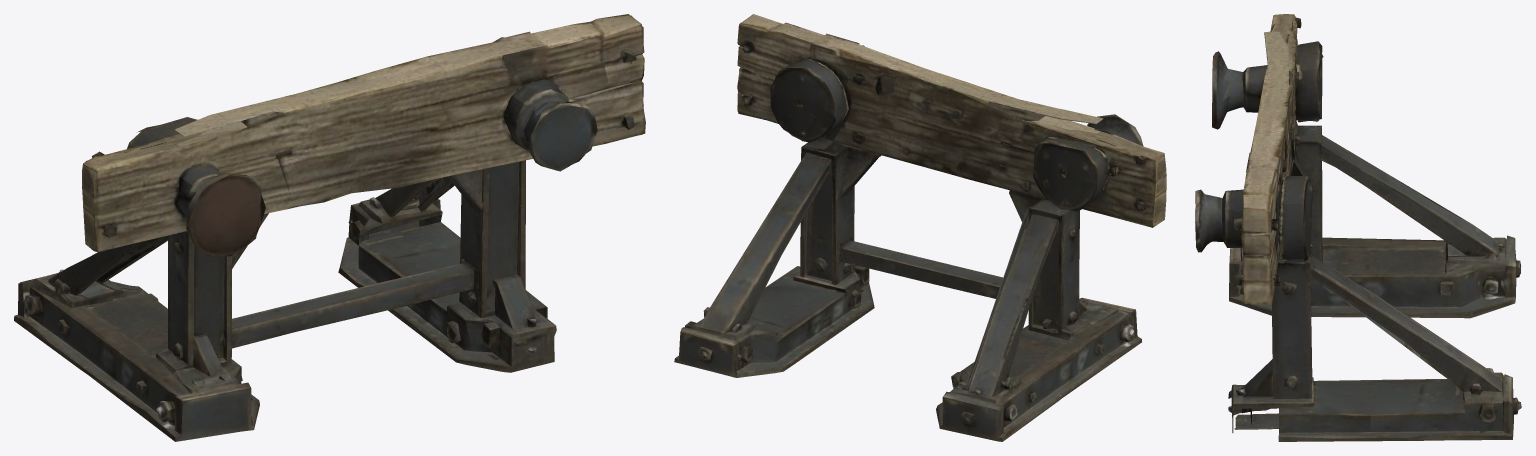
3 renders of one model, left to right at view 1: azimuth 30°, elevation 25°; view 2: azimuth 150°, elevation 25°; view 3: azimuth 270°, elevation 25°, orthographic. The views are drawn at different scales.
Parts seen in each view (by area): view 1: Mindflower_V15_buffer_stop_baked; view 2: Mindflower_V15_buffer_stop_baked; view 3: Mindflower_V15_buffer_stop_baked.
Part boxes in pixels (x1,y1,x2,y2): Mindflower_V15_buffer_stop_baked: (14, 14, 645, 441); Mindflower_V15_buffer_stop_baked: (674, 14, 1166, 441); Mindflower_V15_buffer_stop_baked: (1195, 14, 1521, 441).
Size of the model in its own units: 0.9712 by 0.5419 by 0.6021.
1 material, 1 textured.
